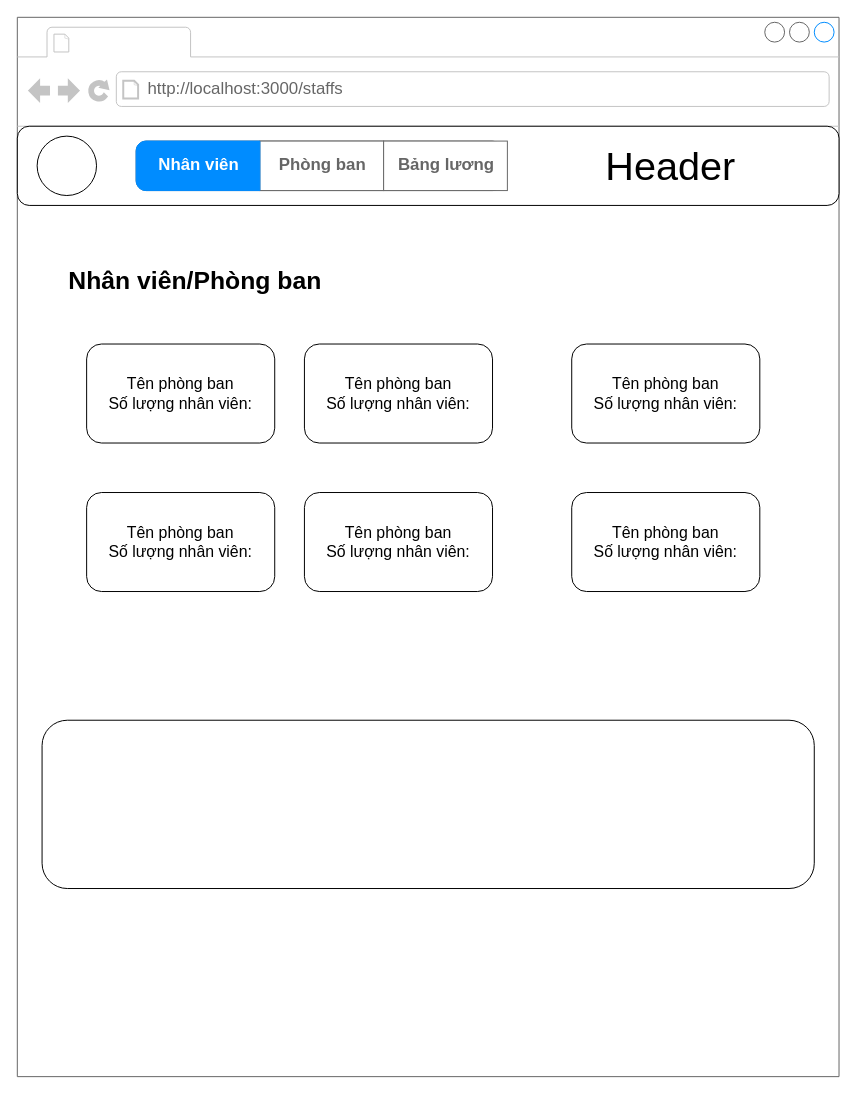
Some shapes in this 856 by 1094 pixel diagram are drawn without their labels. The box of each missing label's shape, as (x1, y1, x2, y2) in pixels:
Footer: (41, 719, 814, 889)
Logo: (36, 135, 97, 196)
Page: (76, 28, 186, 55)
